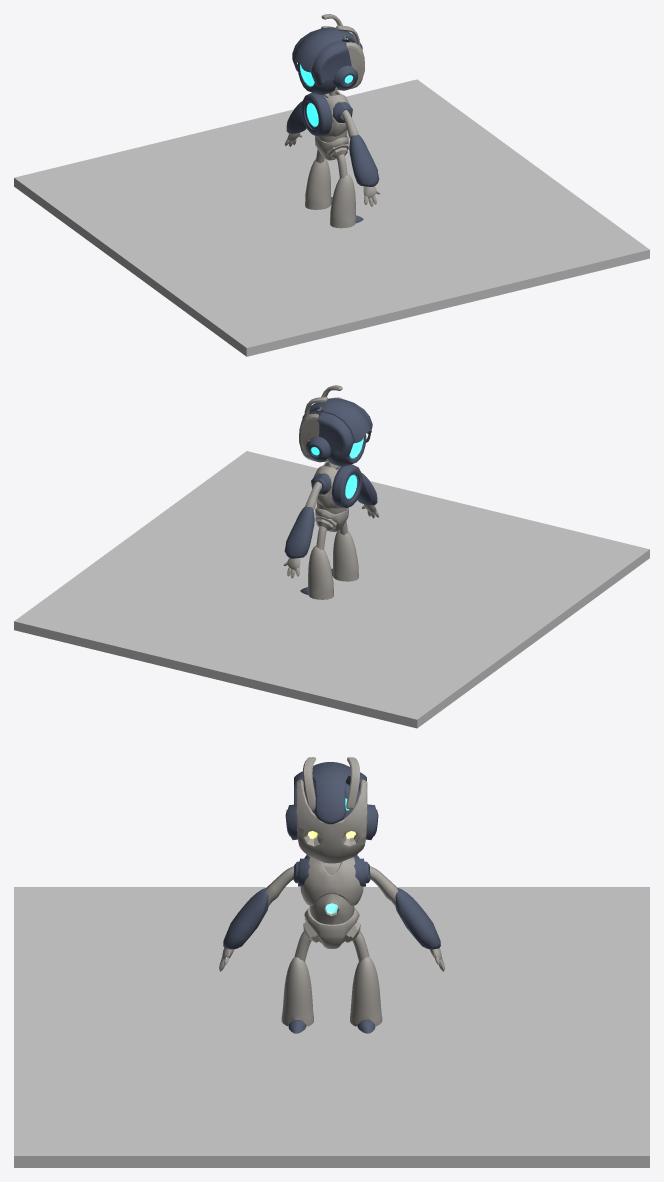
The model's file is Robot_optimizado.fbx.
3 renders of one model, top to bottom at view 1: azimuth 30°, elevation 25°; view 2: azimuth 150°, elevation 25°; view 3: azimuth 270°, elevation 25°, orthographic. The views are drawn at different scales.
Parts seen in each view (by area): view 1: Cube, casco_low, piernas_soporte_low, brazos_caparazon_low, propulsor_espalda_low, cara_low, propulsor_cabeza_low; view 2: Cube, casco_low, piernas_soporte_low, brazos_caparazon_low, propulsor_espalda_low, cara_low, propulsor_cabeza_low, orejas_low, pecho_low; view 3: Cube, cara_low, piernas_soporte_low, brazos_caparazon_low, casco_low, pecho_low, tronco_low, antenas_low, brazos_low, cadera_low, orejas_low, brazos_rueda_low (+1 smaller).
Part boxes in pixels (x1,y1,x2,y2): Cube: [14, 79, 649, 356]; casco_low: [292, 27, 362, 85]; piernas_soporte_low: [305, 158, 355, 228]; brazos_caparazon_low: [286, 101, 379, 186]; propulsor_espalda_low: [301, 92, 332, 136]; cara_low: [321, 26, 364, 90]; propulsor_cabeza_low: [297, 62, 335, 94]; Cube: [14, 451, 649, 728]; casco_low: [302, 398, 372, 456]; piernas_soporte_low: [308, 530, 358, 599]; brazos_caparazon_low: [284, 473, 377, 558]; propulsor_espalda_low: [331, 464, 362, 507]; cara_low: [299, 397, 342, 462]; propulsor_cabeza_low: [328, 434, 366, 466]; orejas_low: [306, 437, 331, 462]; pecho_low: [314, 462, 341, 508]; Cube: [14, 887, 649, 1167]; cara_low: [296, 779, 367, 863]; piernas_soporte_low: [281, 957, 382, 1026]; brazos_caparazon_low: [223, 888, 440, 949]; casco_low: [294, 762, 366, 824]; pecho_low: [300, 857, 363, 905]; tronco_low: [309, 893, 354, 924]; antenas_low: [302, 757, 359, 809]; brazos_low: [266, 866, 397, 906]; cadera_low: [304, 908, 359, 948]; orejas_low: [285, 804, 378, 839]; brazos_rueda_low: [293, 858, 370, 886].
Size of the model in its own units: 64.99 by 31.1 by 64.99.
